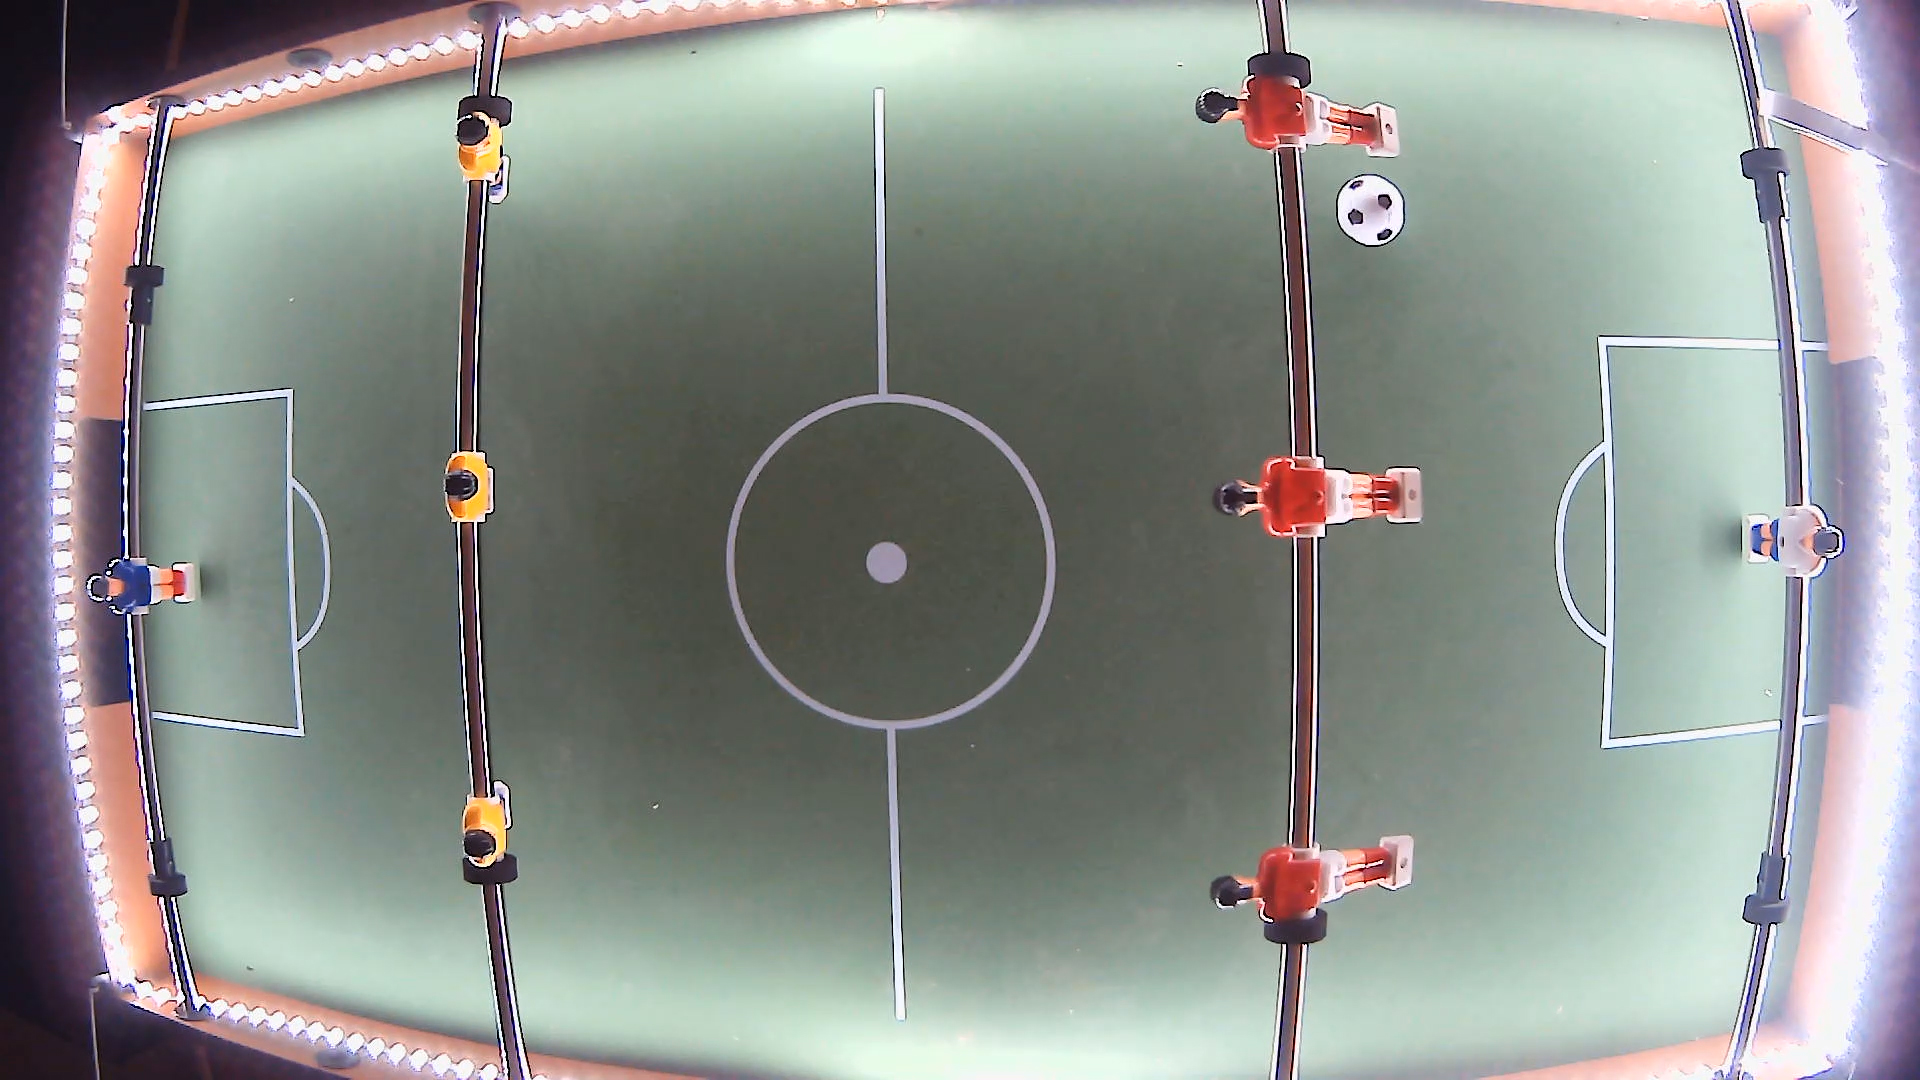Foosball: (1336, 174, 1404, 247)
